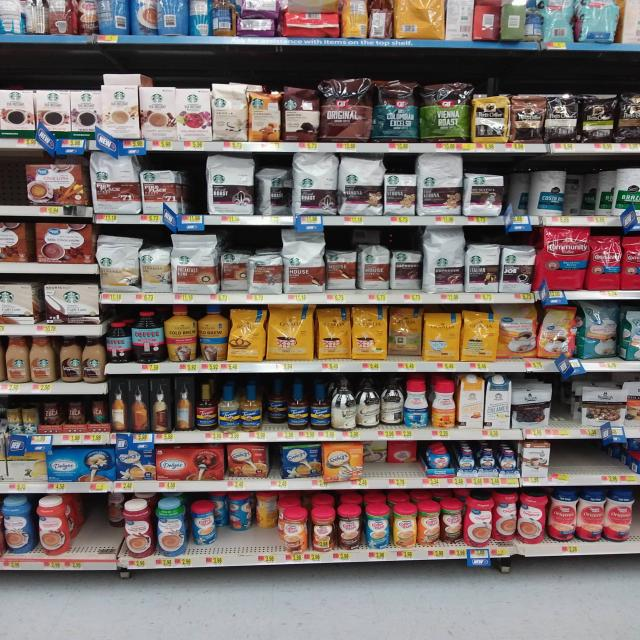unorganised: (223, 441, 421, 479), (186, 493, 278, 555), (327, 235, 423, 292), (536, 303, 620, 361), (328, 372, 404, 429), (196, 305, 268, 361), (1, 89, 71, 139), (492, 493, 550, 546), (80, 495, 127, 553), (96, 231, 141, 290), (99, 82, 141, 139), (566, 164, 610, 218), (494, 306, 538, 360), (256, 159, 294, 216), (419, 497, 463, 546), (386, 305, 423, 360), (316, 307, 353, 359), (528, 165, 564, 218), (2, 494, 31, 557), (236, 1, 281, 36), (543, 1, 577, 43), (221, 247, 249, 294), (263, 379, 288, 429), (158, 1, 188, 37), (621, 376, 640, 429), (101, 1, 128, 34)
